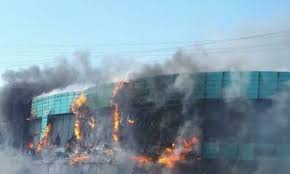fire: (20, 74, 228, 168)
